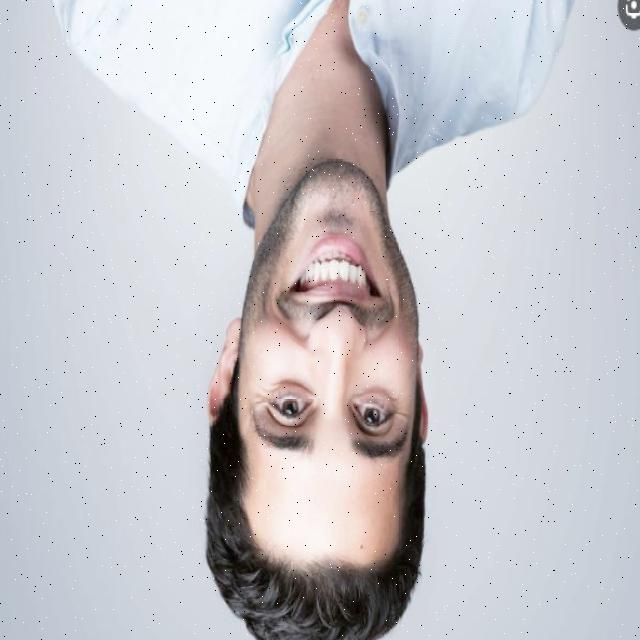puffy_eyes: (354, 387, 396, 404), (265, 382, 311, 395)
